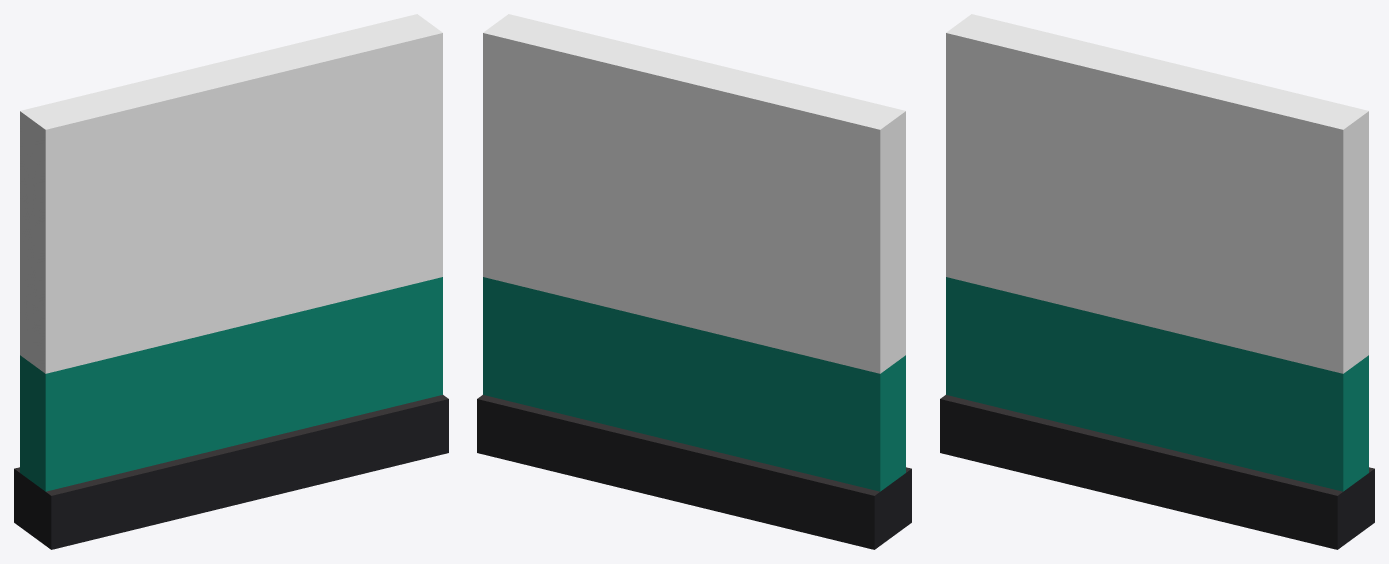
The model's file is wall_wallroad_0.fbx.
3 views of the same model, side by side, from view 1: azimuth 30°, elevation 25°; view 2: azimuth 150°, elevation 25°; view 3: azimuth 330°, elevation 25° (orthographic).
Parts seen in each view (by area): view 1: wall_wallroad_0; view 2: wall_wallroad_0; view 3: wall_wallroad_0.
Part boxes in pixels (x1=…): wall_wallroad_0: x1=14, y1=14, x2=448, y2=549; wall_wallroad_0: x1=477, y1=14, x2=911, y2=549; wall_wallroad_0: x1=940, y1=14, x2=1374, y2=549.
Bounding box in the file's own units: 160 × 160 × 26.
